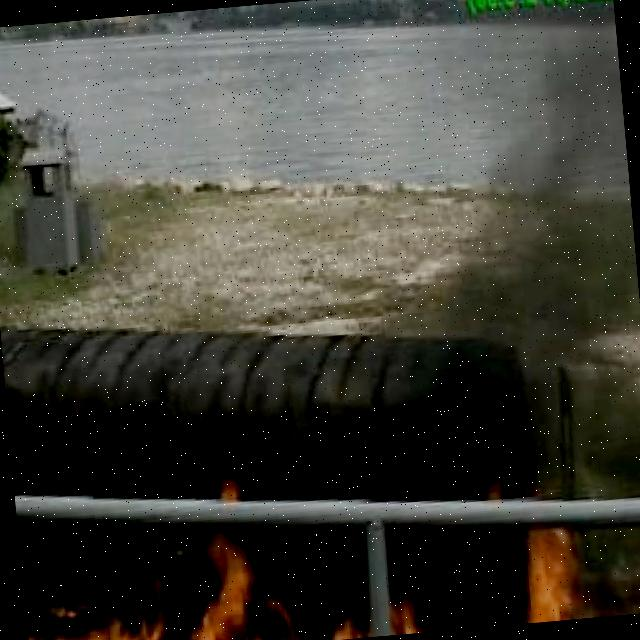fire: (21, 548, 299, 640), (509, 517, 591, 623), (310, 572, 427, 640)
